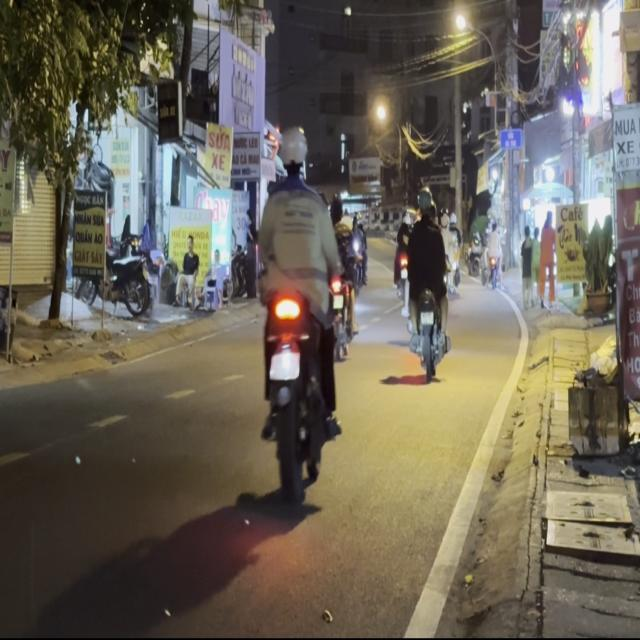helmet: (276, 124, 308, 178)
licenseplate: (253, 121, 343, 499)
nohelmet: (269, 350, 299, 379)
